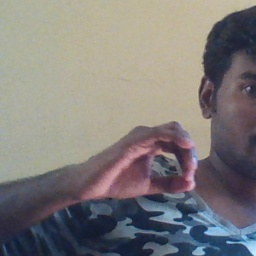O: (82, 118, 197, 207)
